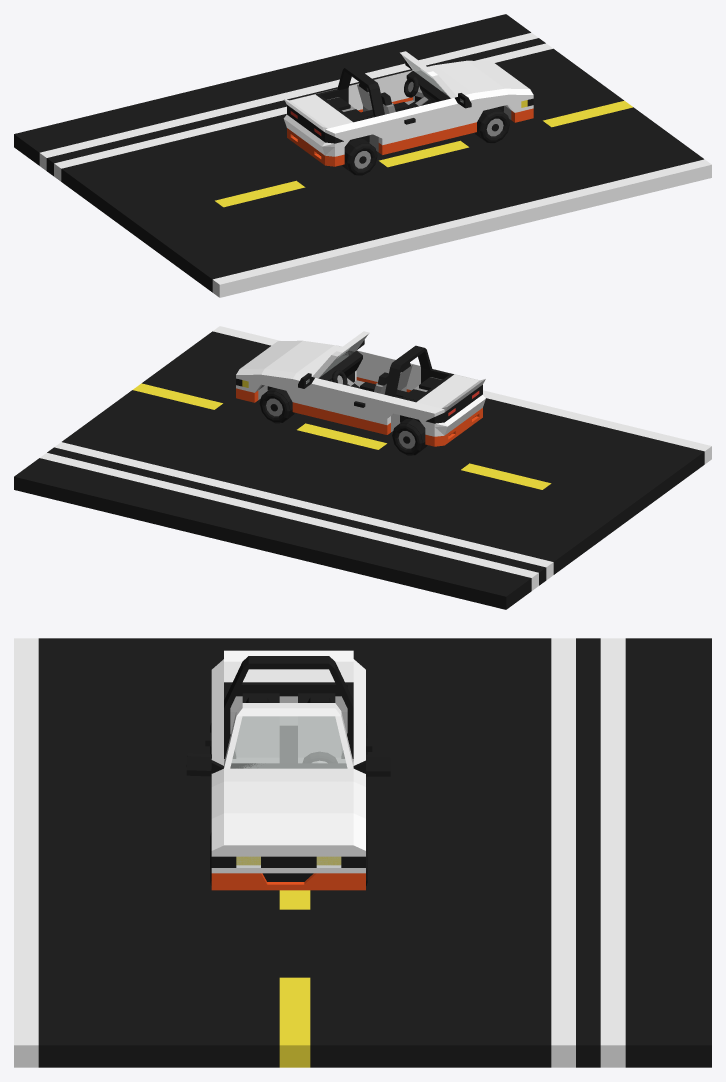
The model's file is scene_bzwbDAtCnj.glb.
3 views of the same model, one above another, from view 1: azimuth 30°, elevation 25°; view 2: azimuth 150°, elevation 25°; view 3: azimuth 270°, elevation 25° (orthographic). The views are drawn at different scales.
Visible parts, largest first — view 1: group122394902, group1763745338, group487991897, group1414471798, group736311666, group259044159, group1789057282, group1650849799, group2146666992, group1909746902, group987923652, group1124309479 (+13 smaller); view 2: group1763745338, group122394902, group487991897, group259044159, group1789057282, group736311666, group1414471798, group913515373, group2146666992, group1043479446, group987923652, group2142174699 (+13 smaller); view 3: group1763745338, group122394902, group487991897, group736311666, group1789057282, group1414471798, group259044159, group1445706296, group51728829, group2146666992, group353499645, group1609876518 (+16 smaller).
Boxes of the visible parts, bbox=[...] form: group122394902: bbox=[141, 107, 703, 292]; group1763745338: bbox=[61, 48, 623, 233]; group487991897: bbox=[14, 14, 530, 165]; group1414471798: bbox=[212, 159, 711, 297]; group736311666: bbox=[39, 32, 538, 170]; group259044159: bbox=[46, 38, 545, 176]; group1789057282: bbox=[54, 43, 552, 181]; group1650849799: bbox=[394, 101, 442, 139]; group2146666992: bbox=[435, 60, 504, 92]; group1909746902: bbox=[342, 139, 377, 175]; group987923652: bbox=[290, 94, 352, 128]; group1124309479: bbox=[475, 107, 509, 143]; group1763745338: bbox=[62, 390, 624, 574]; group122394902: bbox=[142, 331, 704, 516]; group487991897: bbox=[14, 458, 531, 609]; group259044159: bbox=[47, 447, 546, 585]; group1789057282: bbox=[54, 442, 553, 580]; group736311666: bbox=[40, 453, 538, 590]; group1414471798: bbox=[213, 326, 711, 464]; group913515373: bbox=[327, 381, 374, 419]; group2146666992: bbox=[265, 340, 334, 372]; group1043479446: bbox=[392, 419, 427, 455]; group987923652: bbox=[416, 374, 479, 408]; group2142174699: bbox=[259, 387, 294, 423]; group1763745338: bbox=[310, 638, 551, 1067]; group122394902: bbox=[38, 638, 279, 1067]; group487991897: bbox=[625, 638, 711, 1067]; group736311666: bbox=[600, 638, 625, 1067]; group1789057282: bbox=[551, 638, 575, 1067]; group1414471798: bbox=[14, 638, 38, 1067]; group259044159: bbox=[576, 638, 600, 1067]; group1445706296: bbox=[224, 813, 353, 856]; group51728829: bbox=[230, 716, 347, 768]; group2146666992: bbox=[224, 781, 353, 813]; group353499645: bbox=[279, 977, 310, 1067]; group1609876518: bbox=[279, 909, 310, 977].
Bounding box in the file's own units: 1.56 × 0.33 × 1.13.
